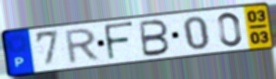0: (182, 15, 212, 51), (217, 11, 243, 48)
7: (34, 29, 61, 69)
B: (138, 18, 171, 58)
F: (102, 21, 136, 62)
R: (64, 26, 102, 66)
